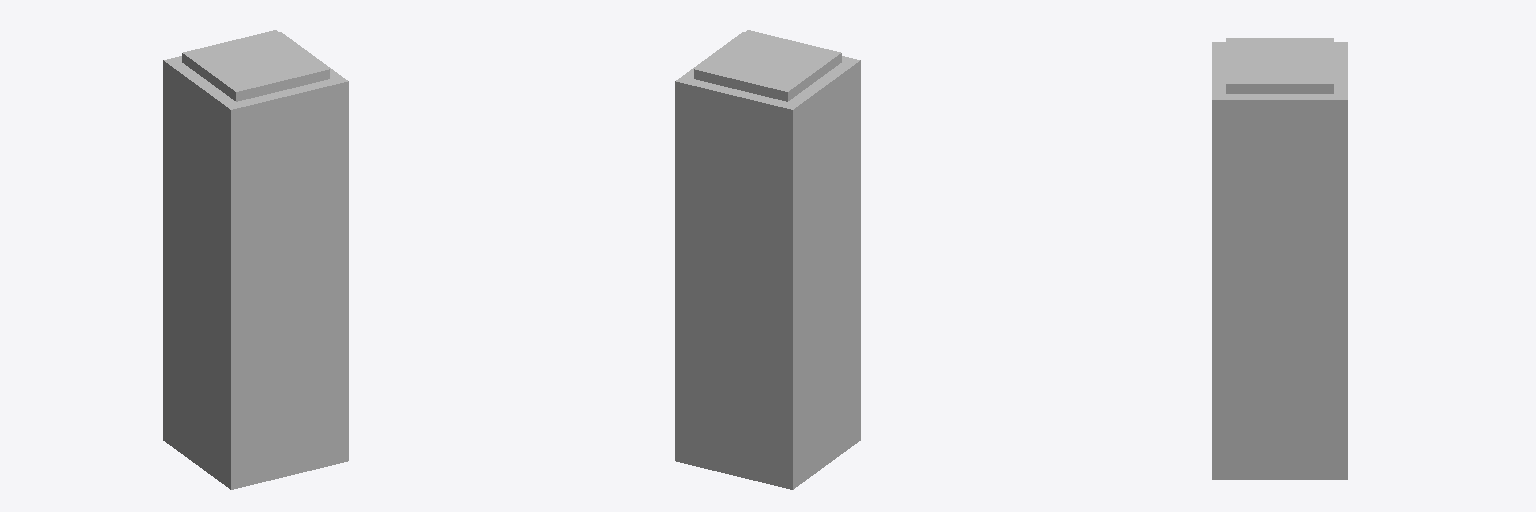
The model's file is Pedestal.obj.
3 views of the same model, side by side, from view 1: azimuth 30°, elevation 25°; view 2: azimuth 150°, elevation 25°; view 3: azimuth 270°, elevation 25° (orthographic).
Parts seen in each view (by area): view 1: Cube.004; view 2: Cube.004; view 3: Cube.004.
Boxes of the visible parts, box(x1,y1,x2,y2) form: Cube.004: box(163, 30, 348, 489); Cube.004: box(675, 30, 860, 489); Cube.004: box(1212, 38, 1347, 479).
Size of the model in its own units: 0.6 by 1.9 by 0.6.